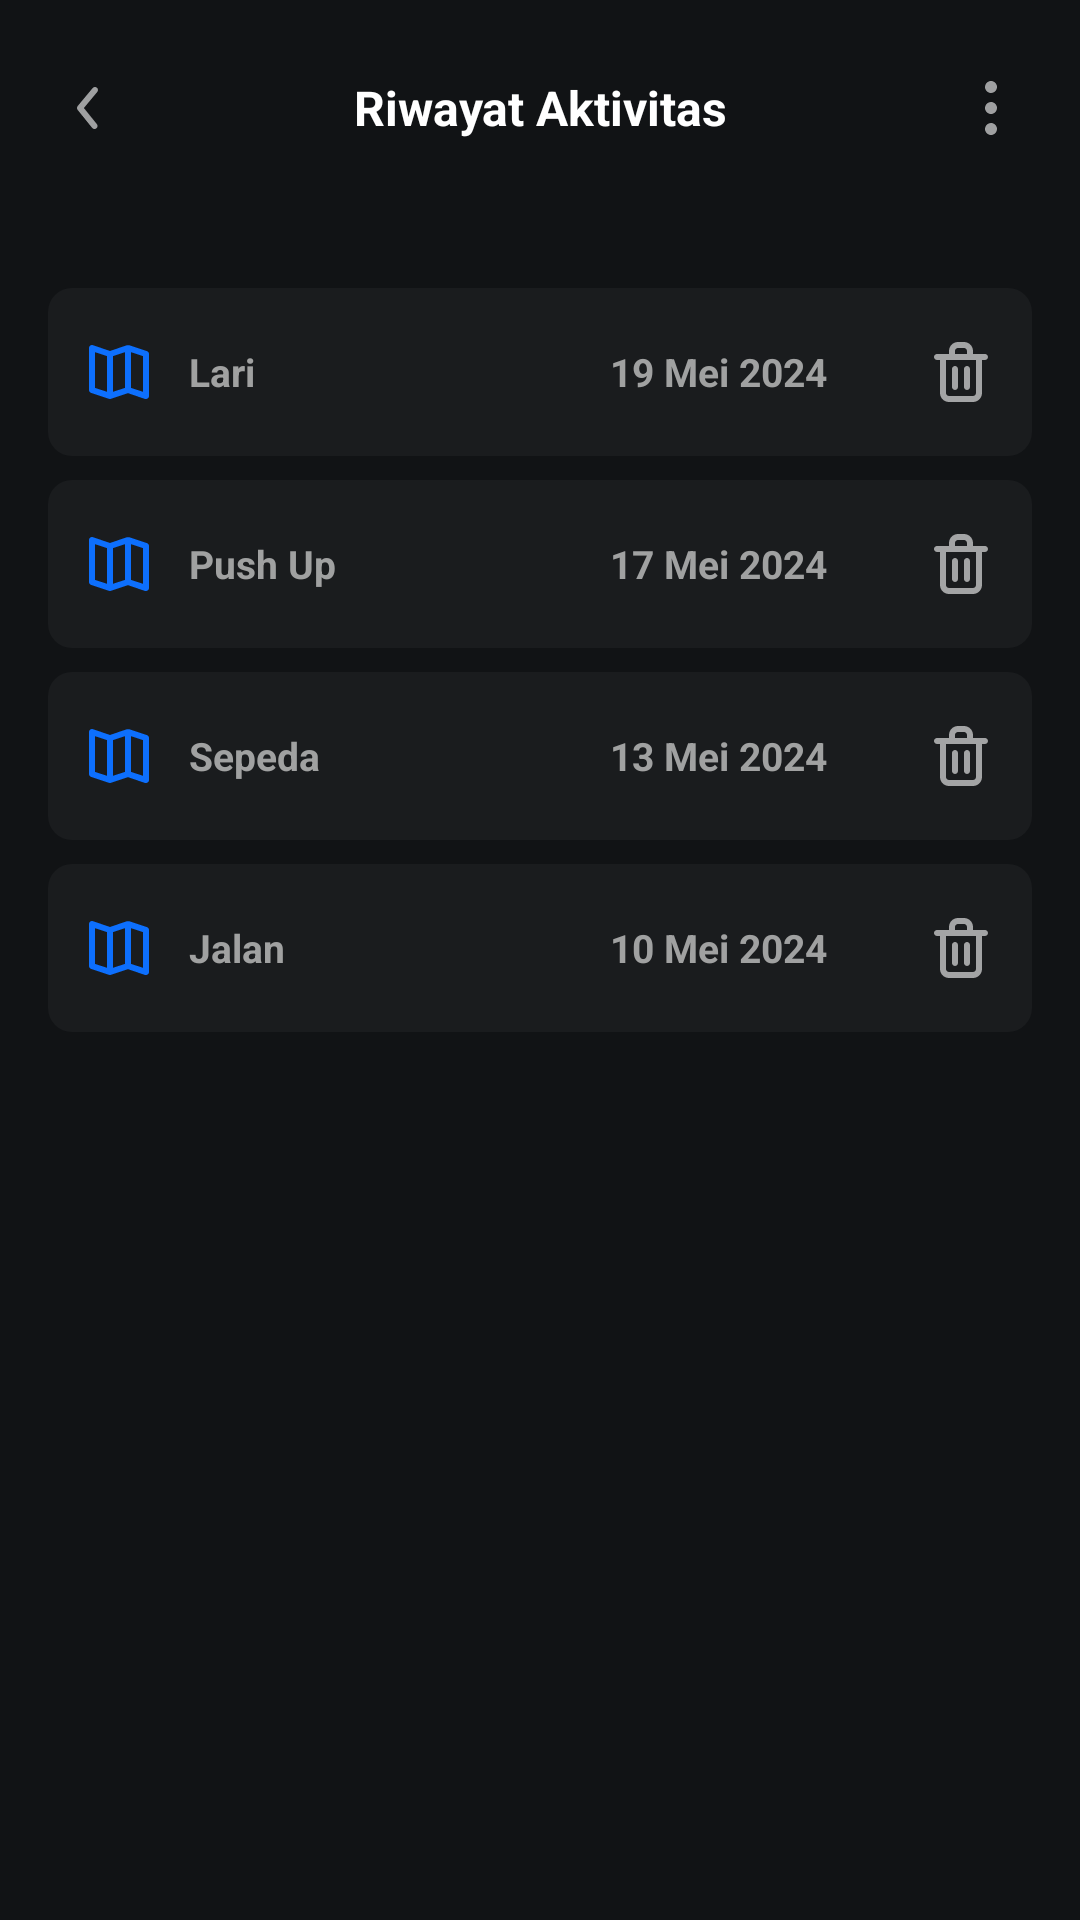

Named icons in this screenshot (1080w x 1920h) and their bounding boxes, (x1, y1, x2, y2):
arrow left: (77, 87, 98, 129)
elipsis: (985, 81, 997, 135)
trash: (934, 342, 988, 402), (934, 534, 988, 594), (934, 726, 988, 786), (934, 918, 988, 978)
